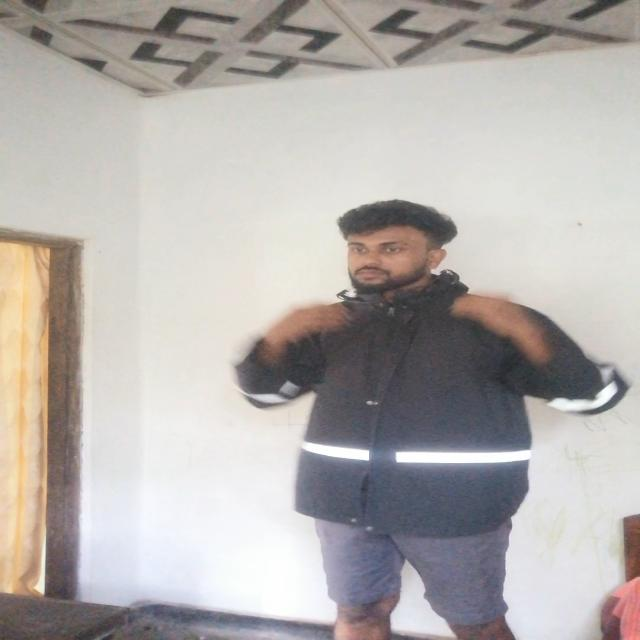Jacket_Wearer: (249, 278, 628, 538)
